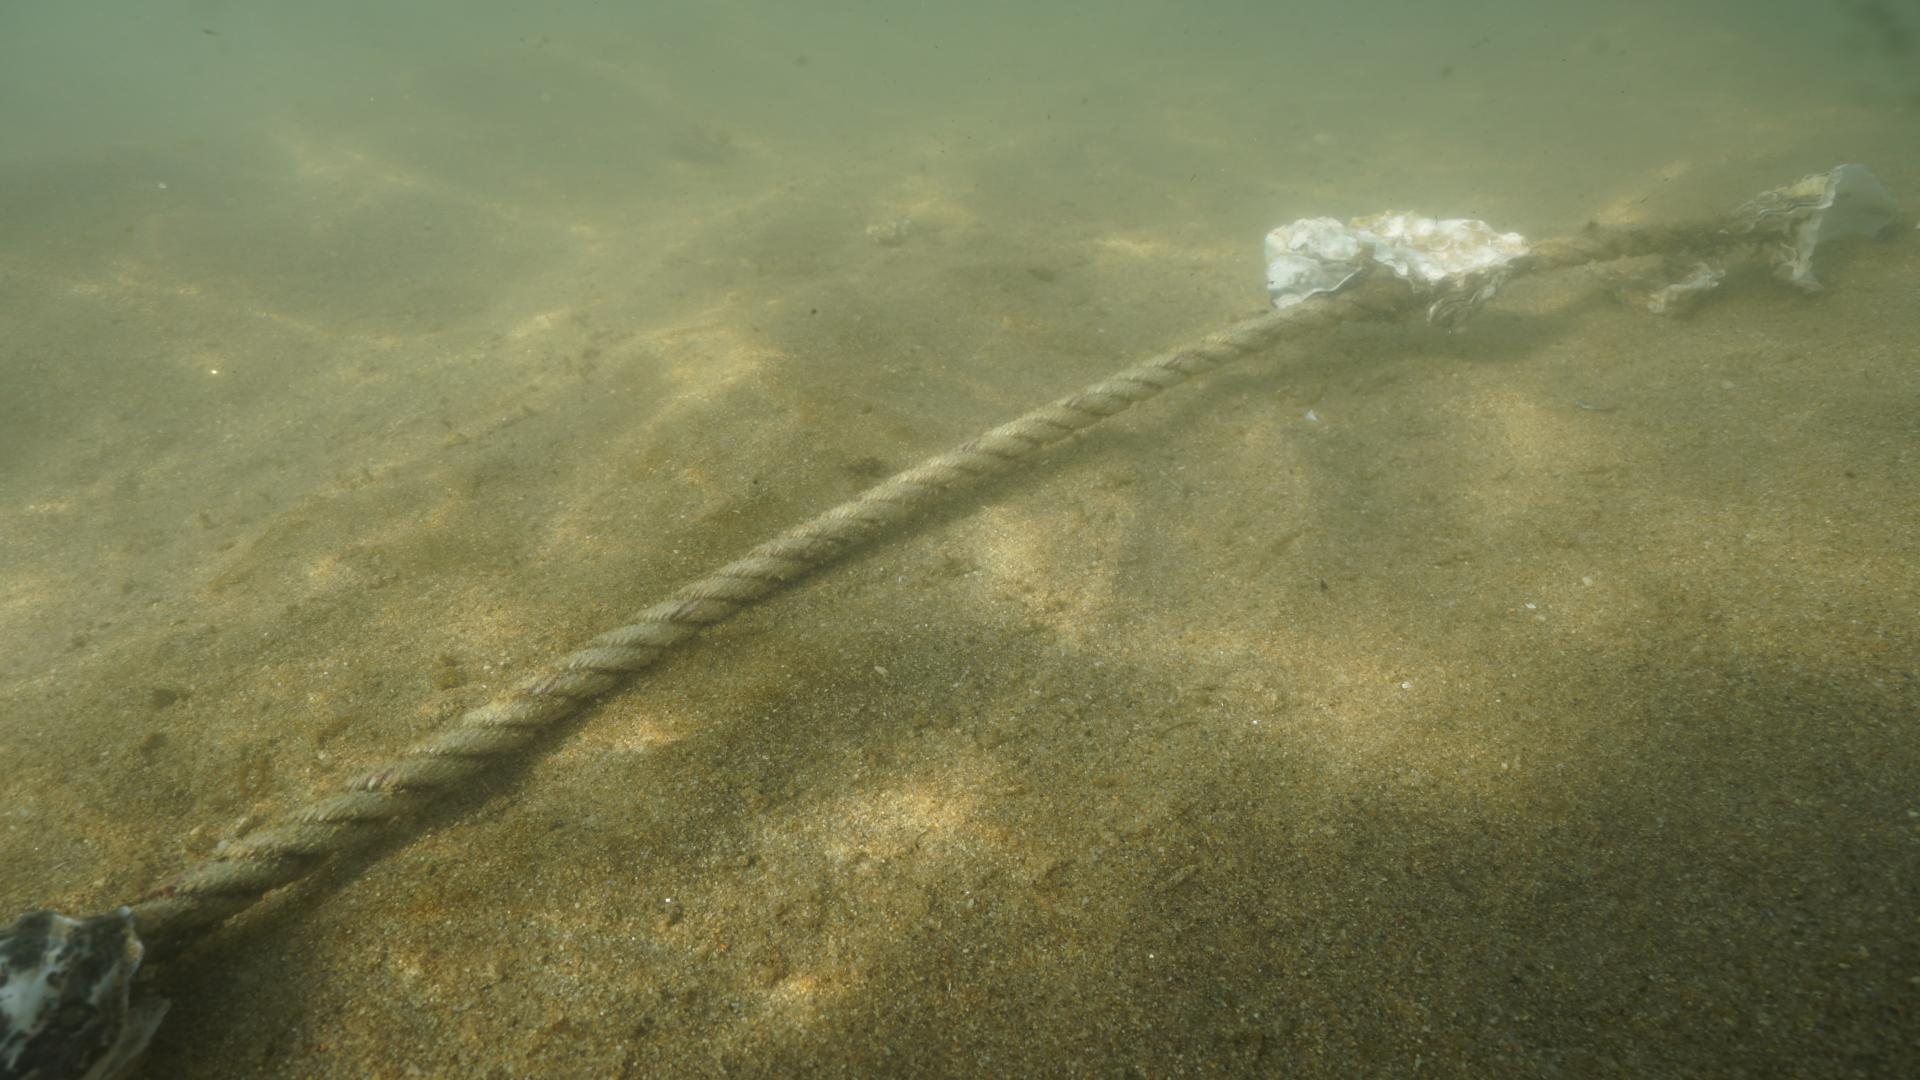rope: (135, 198, 1894, 956)
